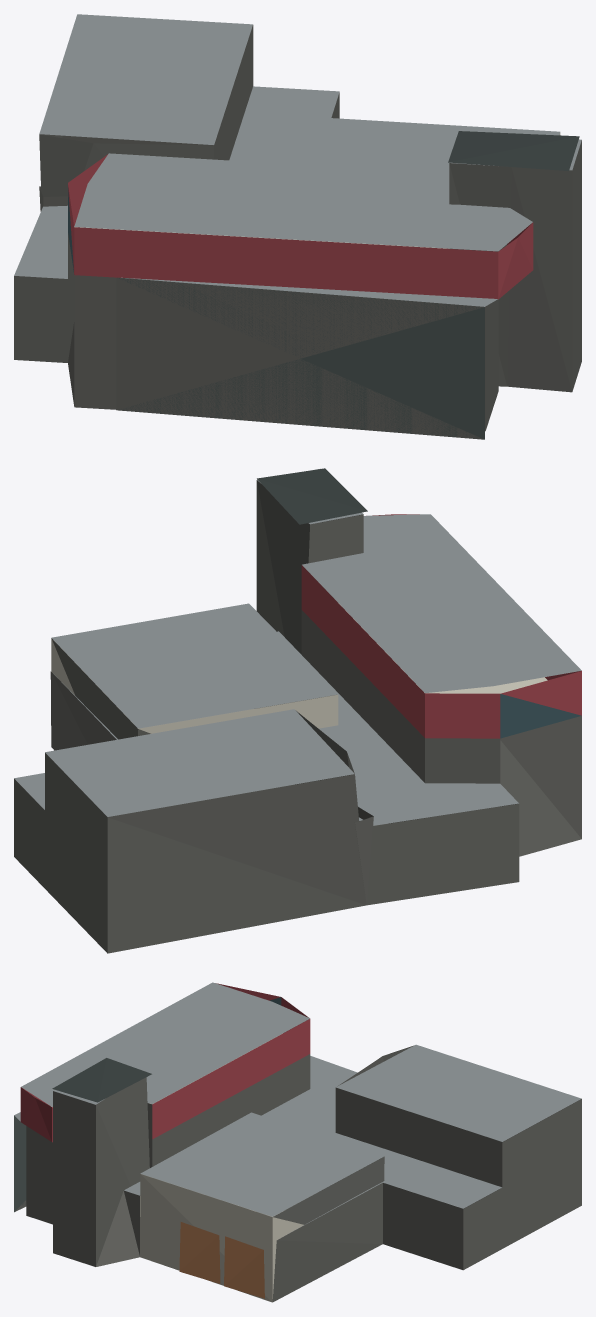
Rendered from fire-station-ijsbrand.lod2.glb.
3 views of the same model, one above another, from view 1: azimuth 30°, elevation 25°; view 2: azimuth 150°, elevation 25°; view 3: azimuth 270°, elevation 25° (orthographic). The views are drawn at different scales.
Parts seen in each view (by area): view 1: lod2; view 2: lod2; view 3: lod2.
Boxes of the visible parts, x1,y1,x2,y2 form: lod2: (14, 14, 581, 439); lod2: (14, 468, 581, 953); lod2: (14, 982, 581, 1302).
Size of the model in its own units: 38.39 by 15.62 by 48.97.
